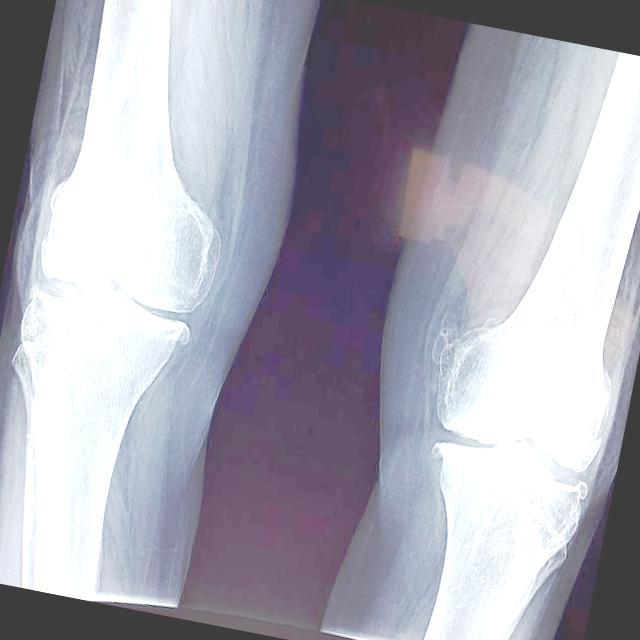HairLine Fracture: (436, 306, 461, 374)
